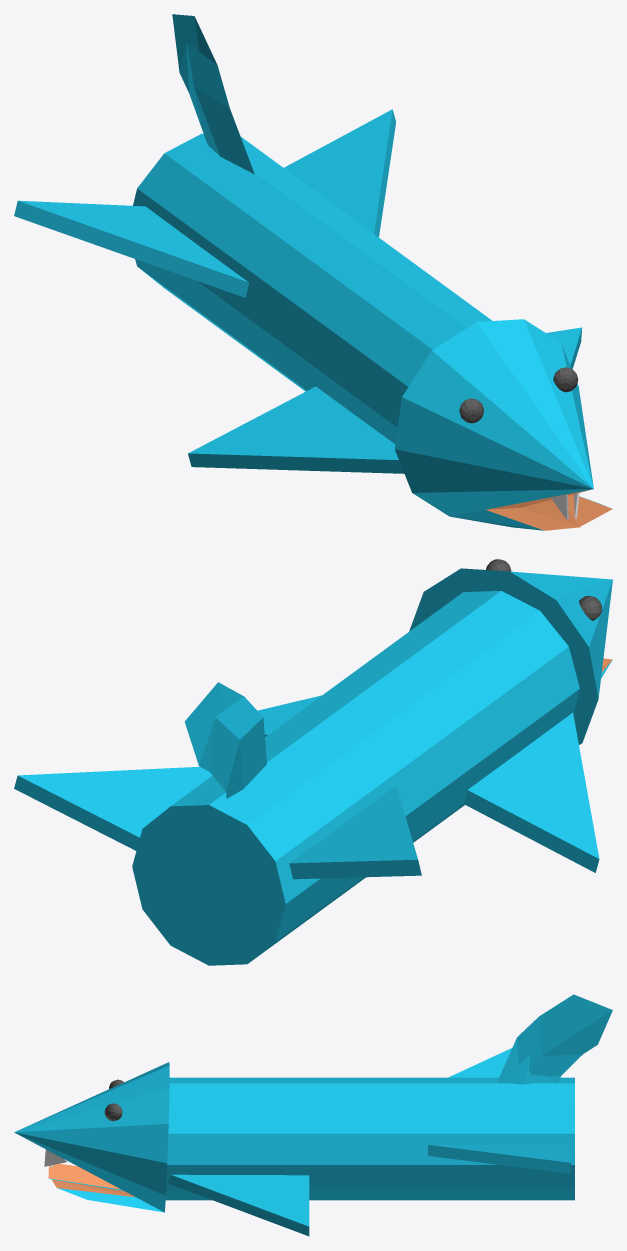
File: fish.fbx
3 renders of one model, top to bottom at view 1: azimuth 30°, elevation 25°; view 2: azimuth 150°, elevation 25°; view 3: azimuth 270°, elevation 25°, orthographic. The views are drawn at different scales.
Parts seen in each view (by area): view 1: mesh45472024, mesh463658043, mesh1102222064, mesh1234950380, mesh462506583, mesh1368178581, mesh1781109907; view 2: mesh45472024, mesh1102222064, mesh463658043, mesh462506583, mesh1234950380, mesh1368178581, mesh1781109907; view 3: mesh45472024, mesh463658043, mesh1368178581, mesh1781109907, mesh462506583, mesh1234950380.
Boxes of the visible parts, x1=… form: mesh45472024: x1=133, y1=133, x2=492, y2=443; mesh463658043: x1=394, y1=319, x2=612, y2=530; mesh1102222064: x1=188, y1=386, x2=404, y2=473; mesh1234950380: x1=14, y1=200, x2=248, y2=297; mesh462506583: x1=284, y1=109, x2=395, y2=237; mesh1368178581: x1=172, y1=14, x2=254, y2=174; mesh1781109907: x1=546, y1=327, x2=582, y2=369; mesh45472024: x1=132, y1=591, x2=579, y2=965; mesh1102222064: x1=463, y1=713, x2=599, y2=872; mesh463658043: x1=409, y1=568, x2=612, y2=744; mesh462506583: x1=14, y1=766, x2=212, y2=850; mesh1234950380: x1=289, y1=786, x2=421, y2=879; mesh1368178581: x1=184, y1=682, x2=266, y2=798; mesh1781109907: x1=257, y1=695, x2=321, y2=736; mesh45472024: x1=165, y1=1077, x2=574, y2=1200; mesh463658043: x1=14, y1=1062, x2=169, y2=1212; mesh1368178581: x1=497, y1=994, x2=612, y2=1084; mesh1781109907: x1=168, y1=1174, x2=309, y2=1236; mesh462506583: x1=428, y1=1144, x2=570, y2=1173; mesh1234950380: x1=448, y1=1048, x2=511, y2=1077.
Size of the model in its own units: 108 by 76.88 by 200.
